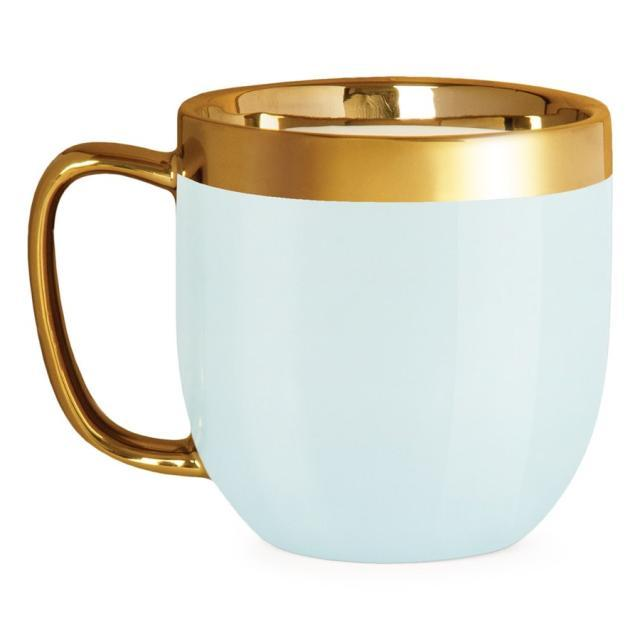Coffee Mug: (26, 76, 611, 561)
